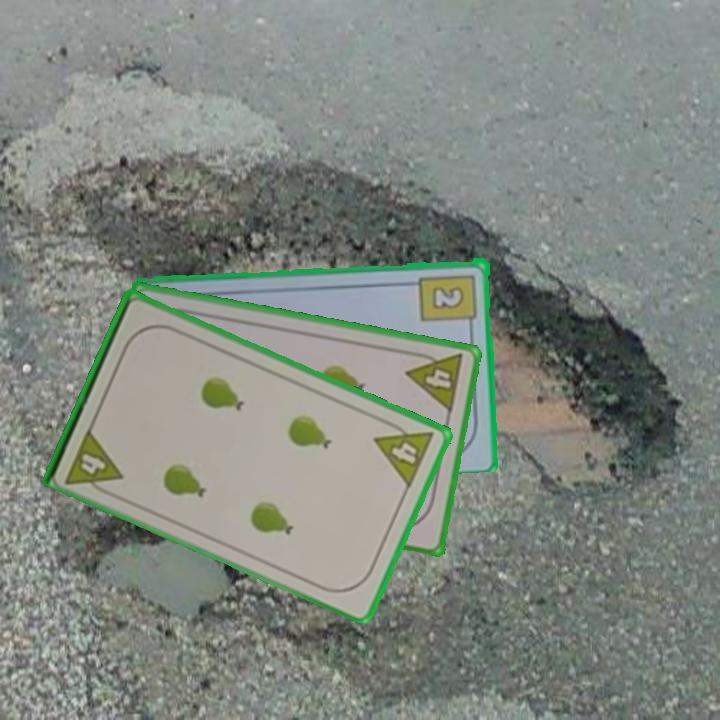2b: (417, 270, 480, 332)
4p: (371, 414, 437, 491), (61, 423, 126, 500), (403, 347, 467, 415)
